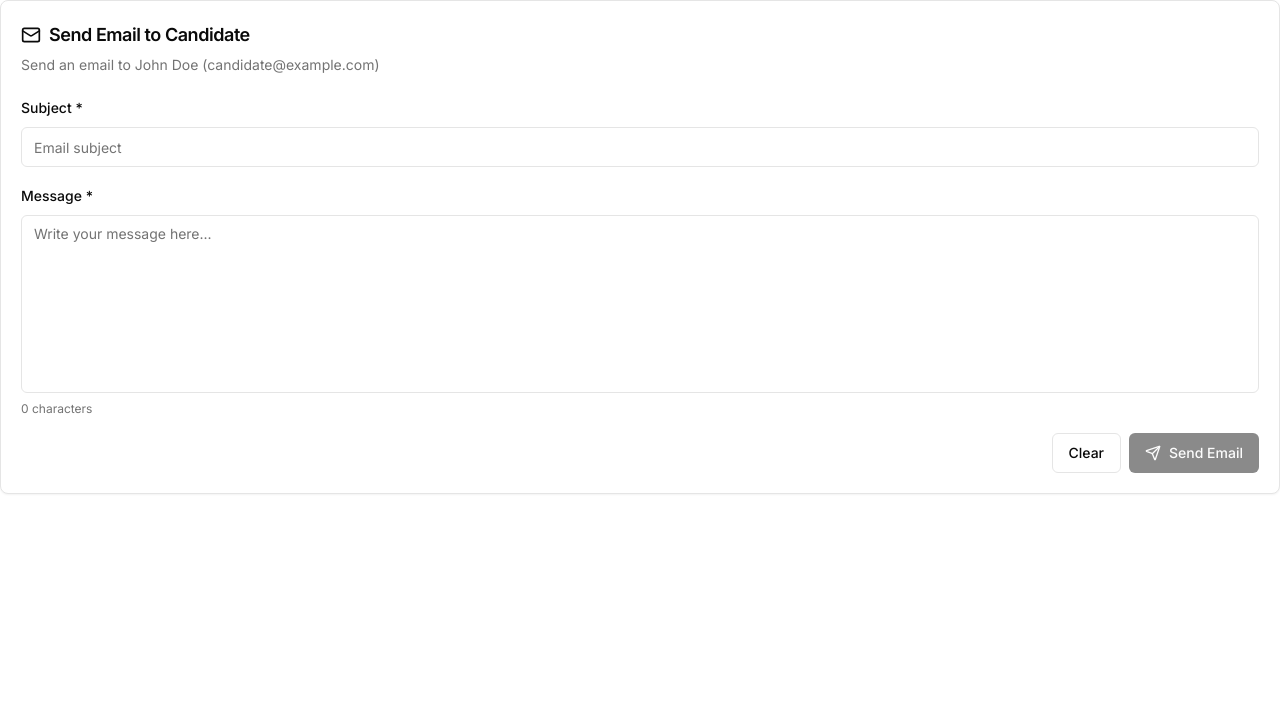
Test: CandidateCommunicationForm › successfully sends email with valid data
Type "Interview Scheduled" into the field labelled "Subject *" at [640, 147], box x1=21 y1=127 x2=1259 y2=167
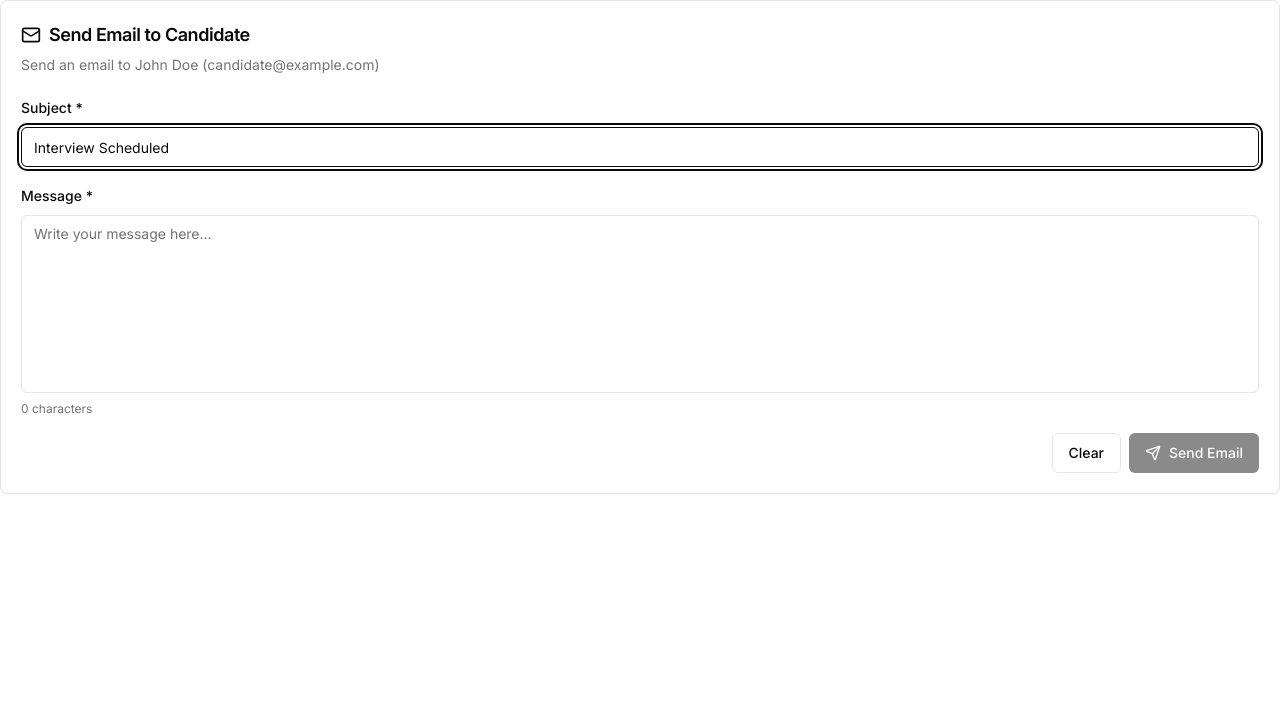
Type "Your interview is scheduled for tomorrow" into the text box labelled "Message *" at [640, 304], box x1=21 y1=215 x2=1259 y2=393
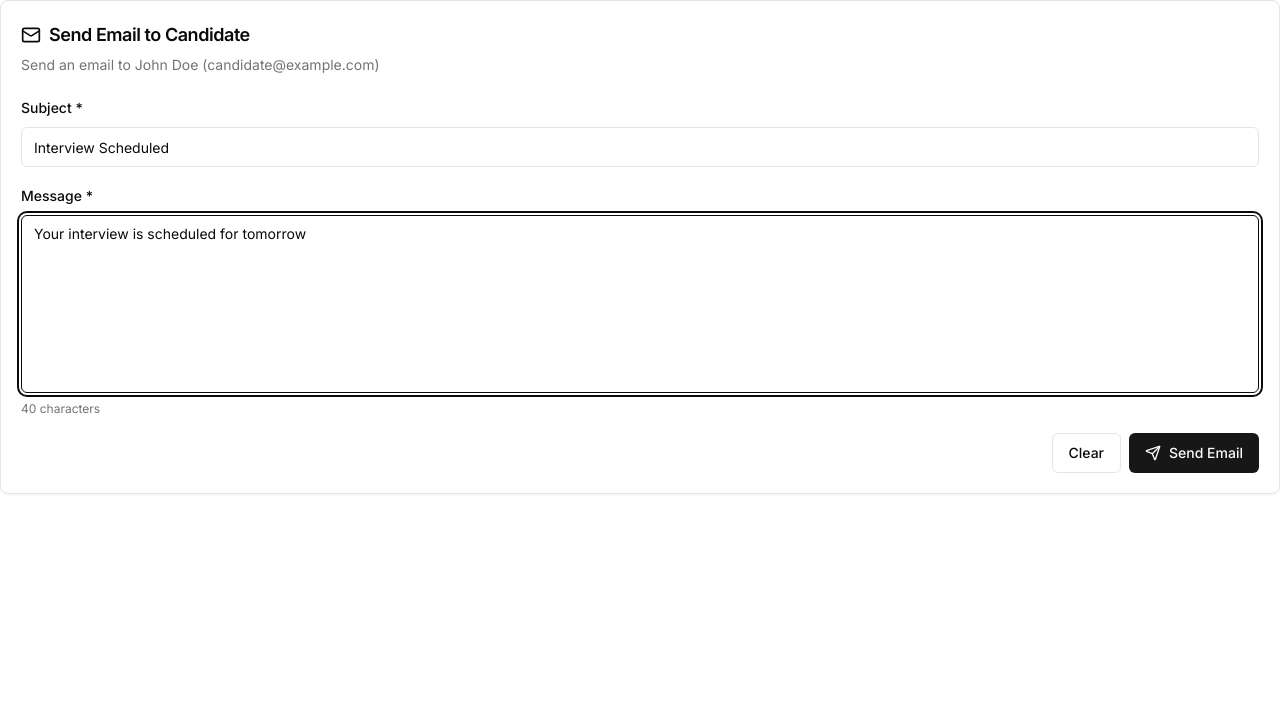
Click the button "Send Email" at [1194, 453], box x1=1129 y1=433 x2=1259 y2=473
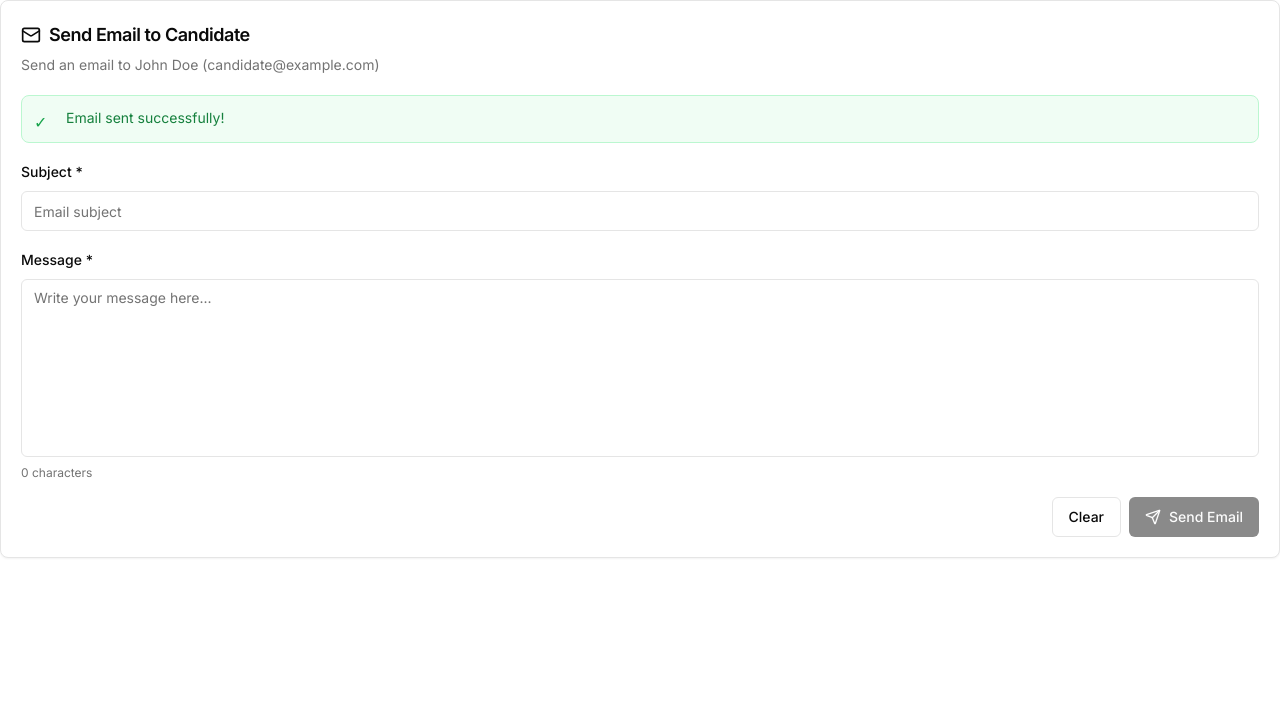
Now the text "Email sent successfully!" is shown, box x1=66 y1=108 x2=224 y2=128
